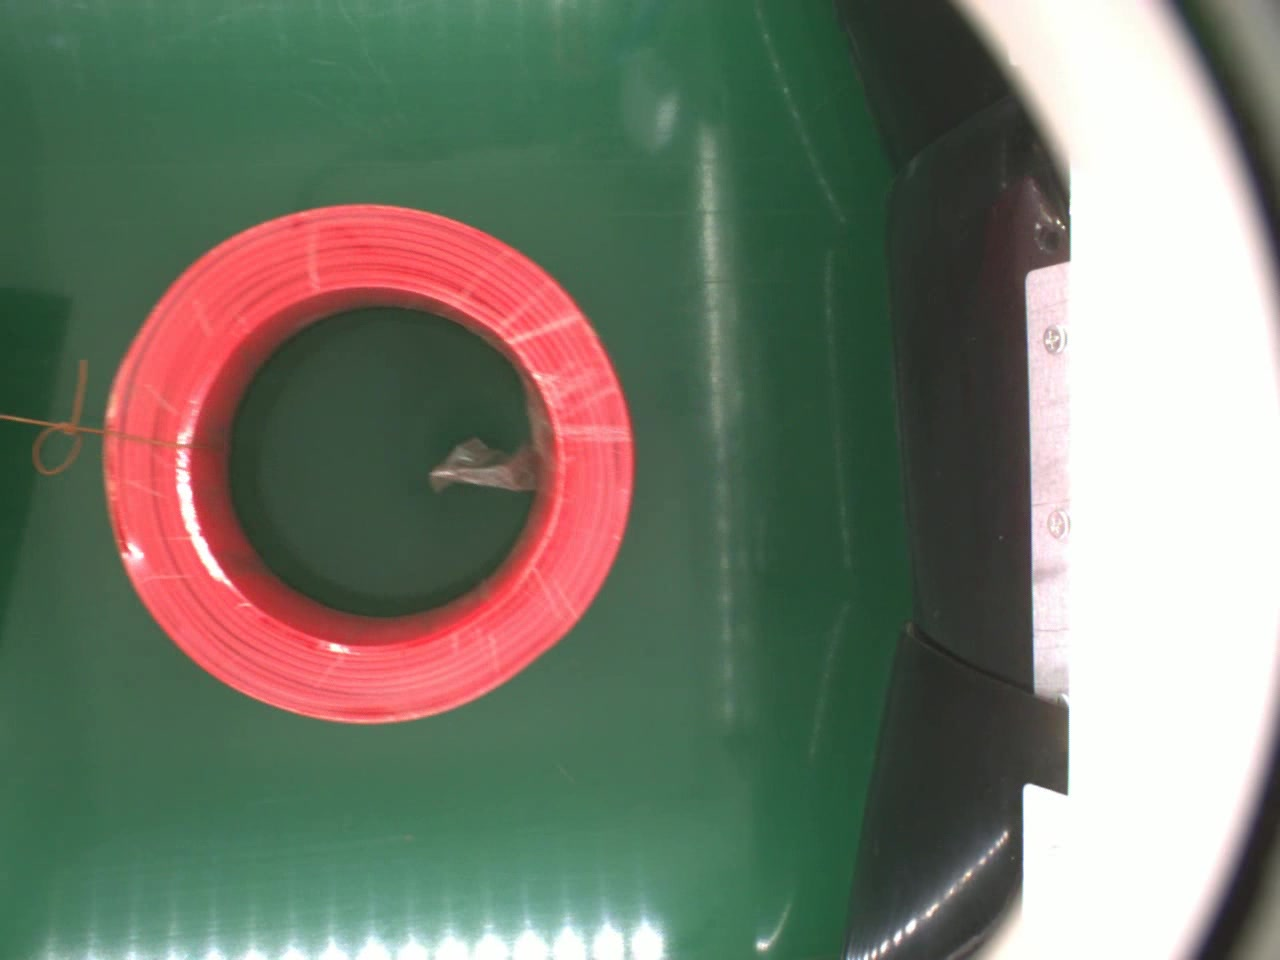red: (105, 201, 633, 724)
